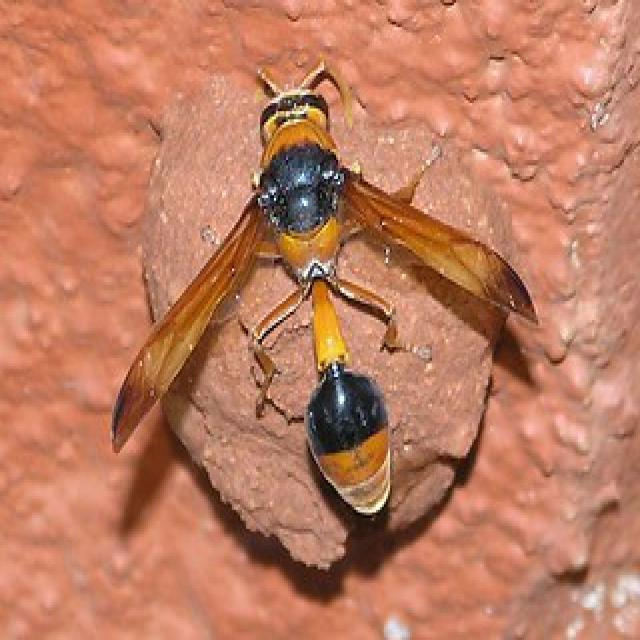Guepe: (88, 55, 572, 550)
